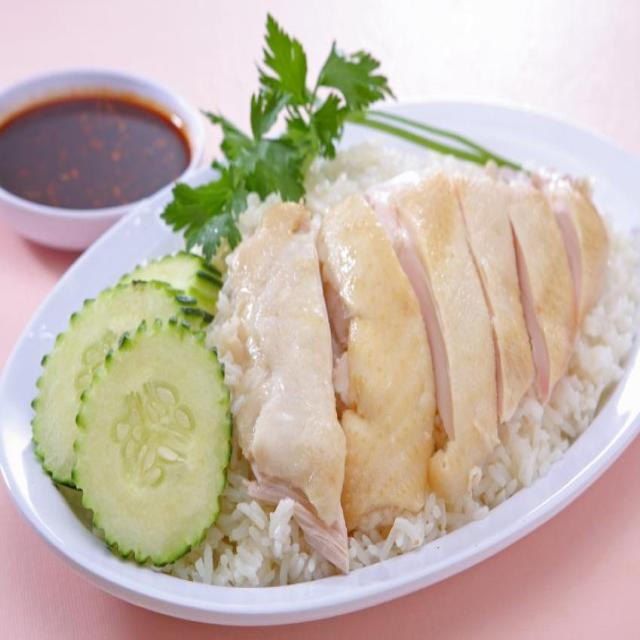Hainanese chicken rice: (229, 202, 636, 618)
carb: (427, 441, 570, 492), (598, 242, 638, 384)
meat: (250, 190, 574, 375)
vegetable: (42, 269, 226, 542)
